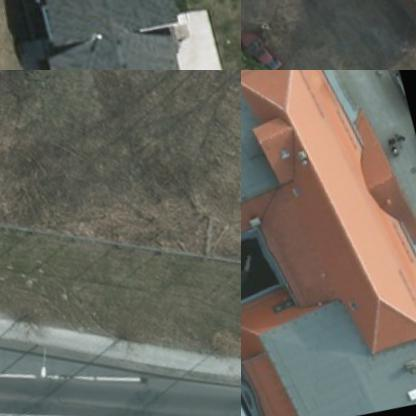car: (241, 20, 297, 69), (391, 70, 411, 114)
